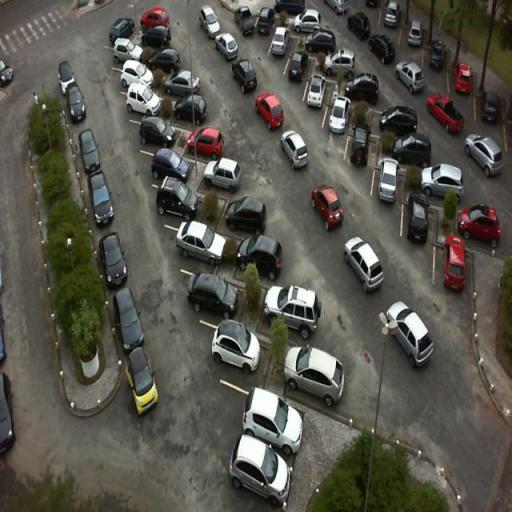Slot-occupied: (217, 374, 309, 460), (273, 332, 359, 410), (199, 314, 276, 399), (173, 260, 251, 336), (258, 272, 334, 344), (160, 220, 232, 282), (146, 172, 220, 232), (426, 223, 478, 295), (228, 232, 296, 287), (132, 141, 199, 194), (394, 186, 440, 261), (368, 154, 406, 242), (128, 110, 190, 163), (216, 189, 278, 242), (116, 84, 168, 126), (320, 92, 353, 156), (346, 126, 379, 188), (301, 71, 333, 134)
